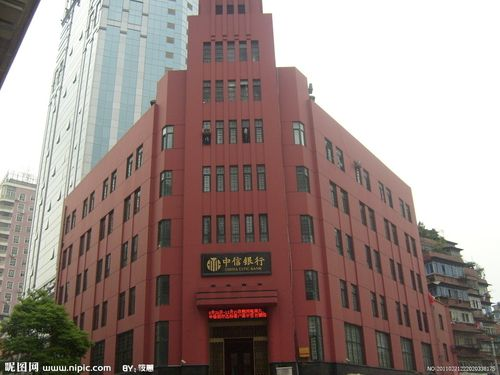buildings: (39, 55, 466, 365), (229, 93, 474, 370)
